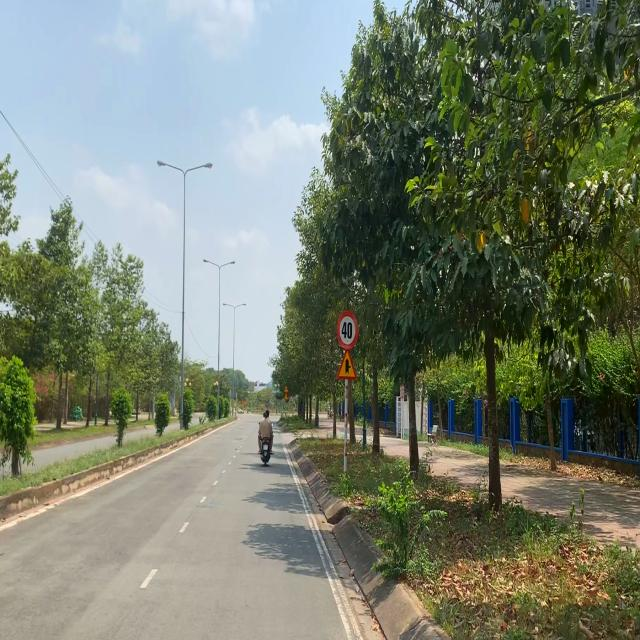Giao voi duong khong uu tien: (337, 349, 357, 381)
Toc do toi da: (336, 308, 359, 350)
